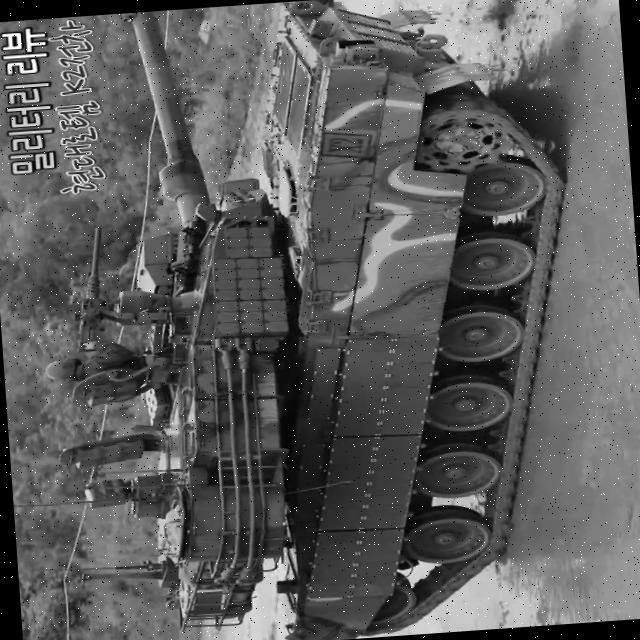korea tank: (11, 0, 597, 640)
